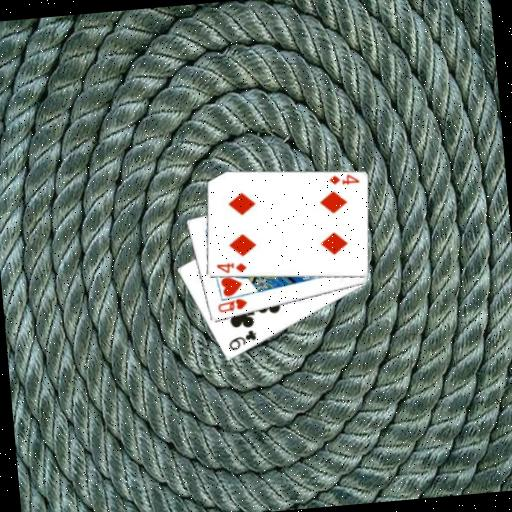4D: (213, 259, 248, 277), (325, 170, 360, 188)
9C: (225, 327, 259, 353)
QH: (214, 295, 249, 315)
